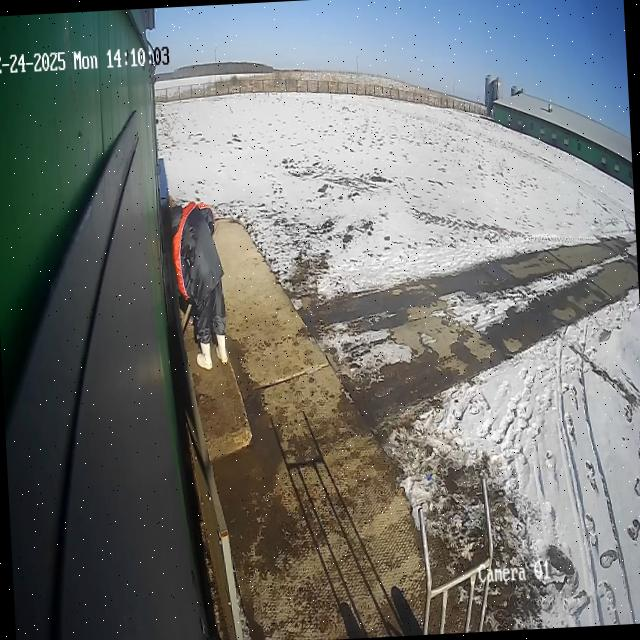Red uniform: (166, 196, 232, 374)
